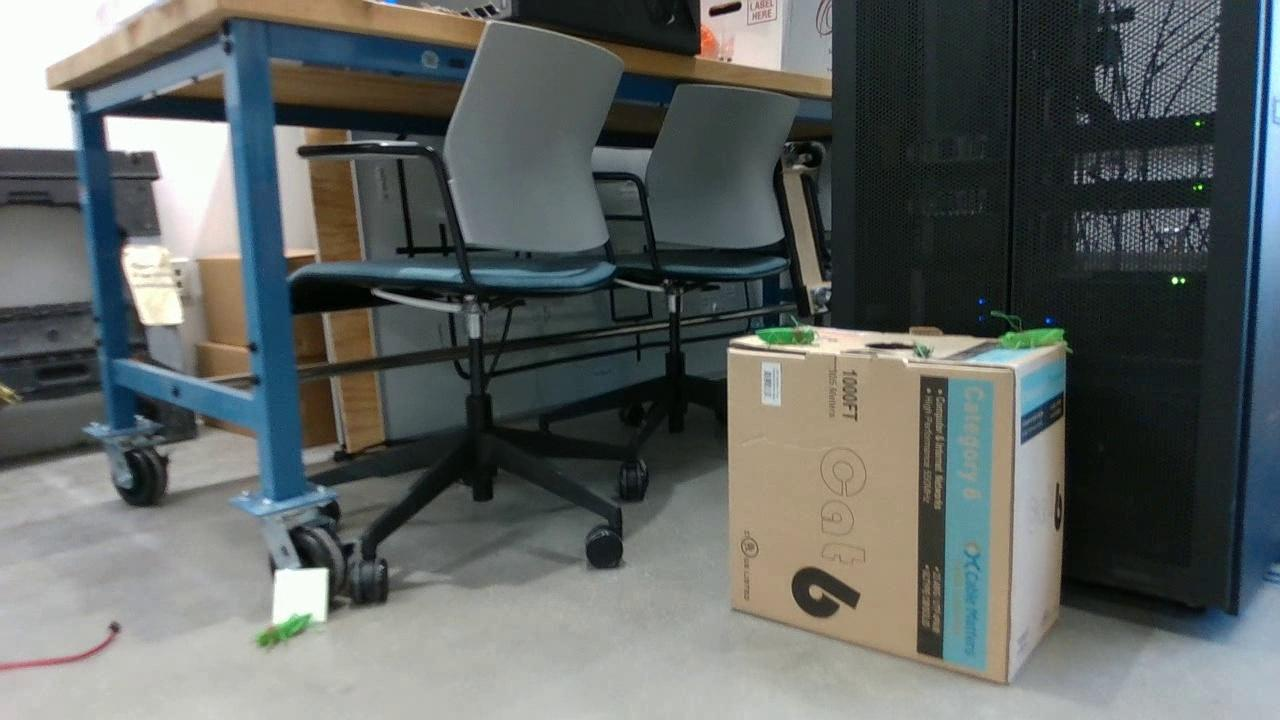grasshopper: (255, 612, 314, 657), (1000, 329, 1072, 353), (756, 327, 815, 349)
